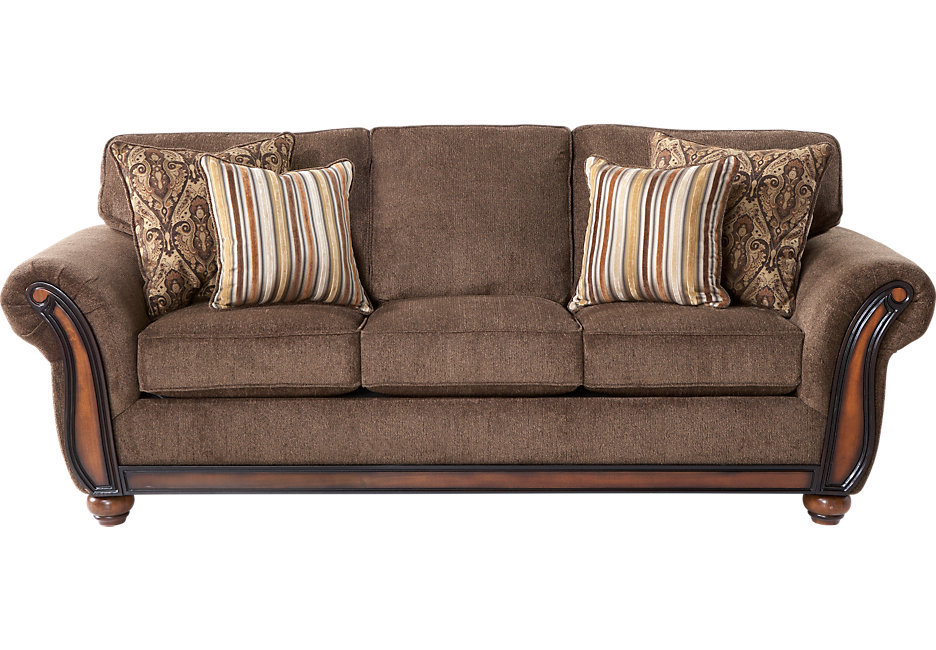chairs: (7, 119, 931, 533)
